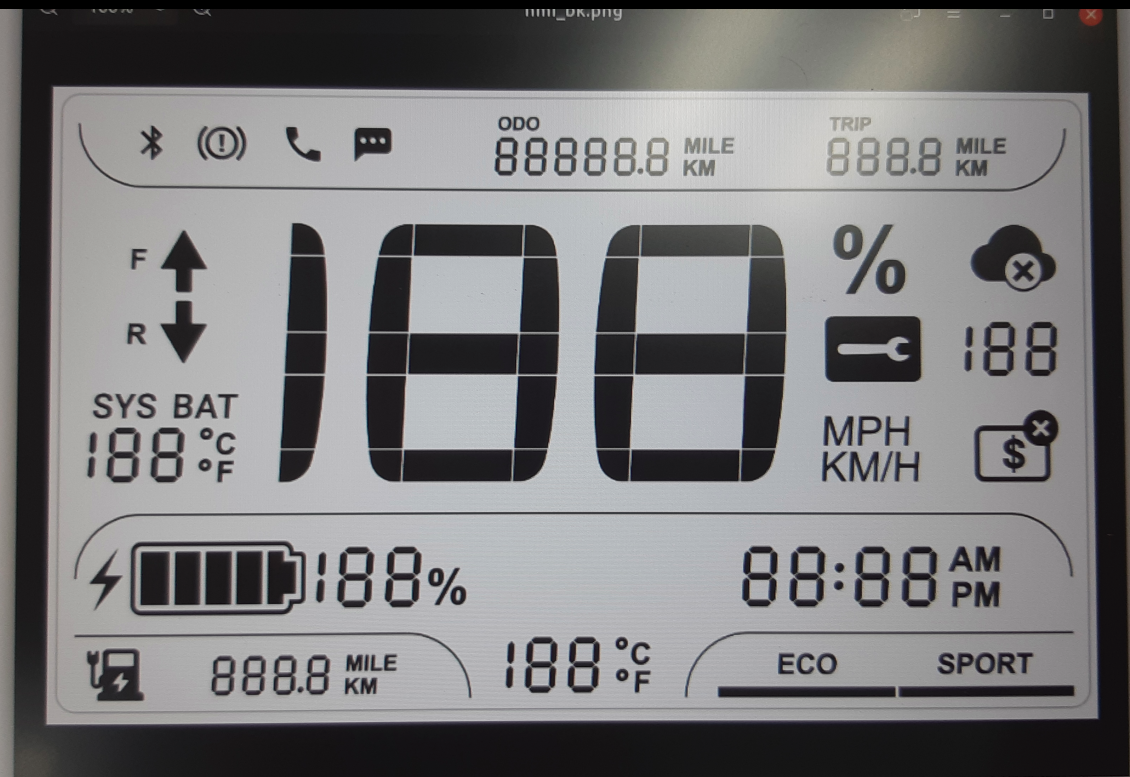bluetooth_on: (132, 120, 172, 163)
braking_on: (193, 121, 249, 162)
calling_on: (281, 122, 326, 164)
connection_lost: (967, 222, 1061, 296)
error_code: (822, 312, 926, 387)
low_battery: (82, 643, 151, 705)
sms_on: (349, 125, 397, 164)
vin_id: (970, 407, 1062, 488)
